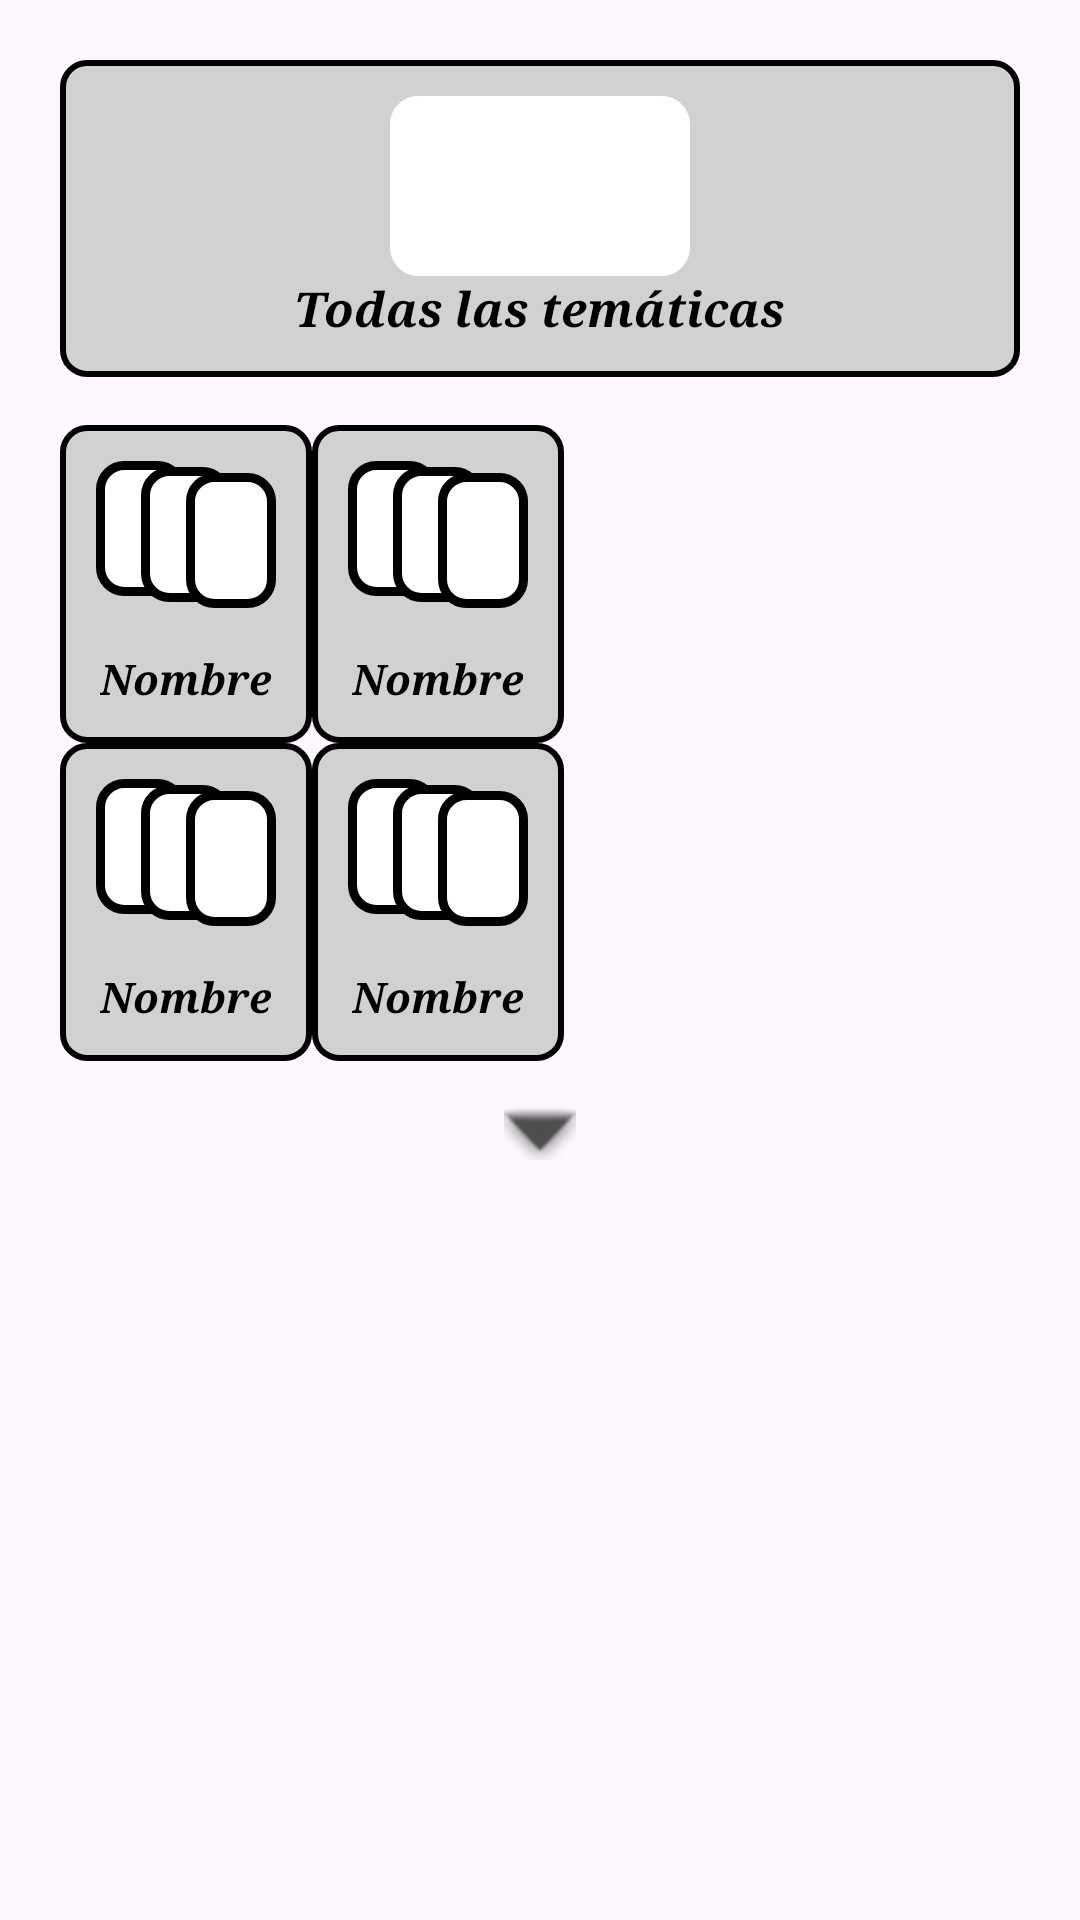

Point at icon controls on the screen. Image size 1080px x 1920px, points as [x,y].
arrow down float: [540,1133]
